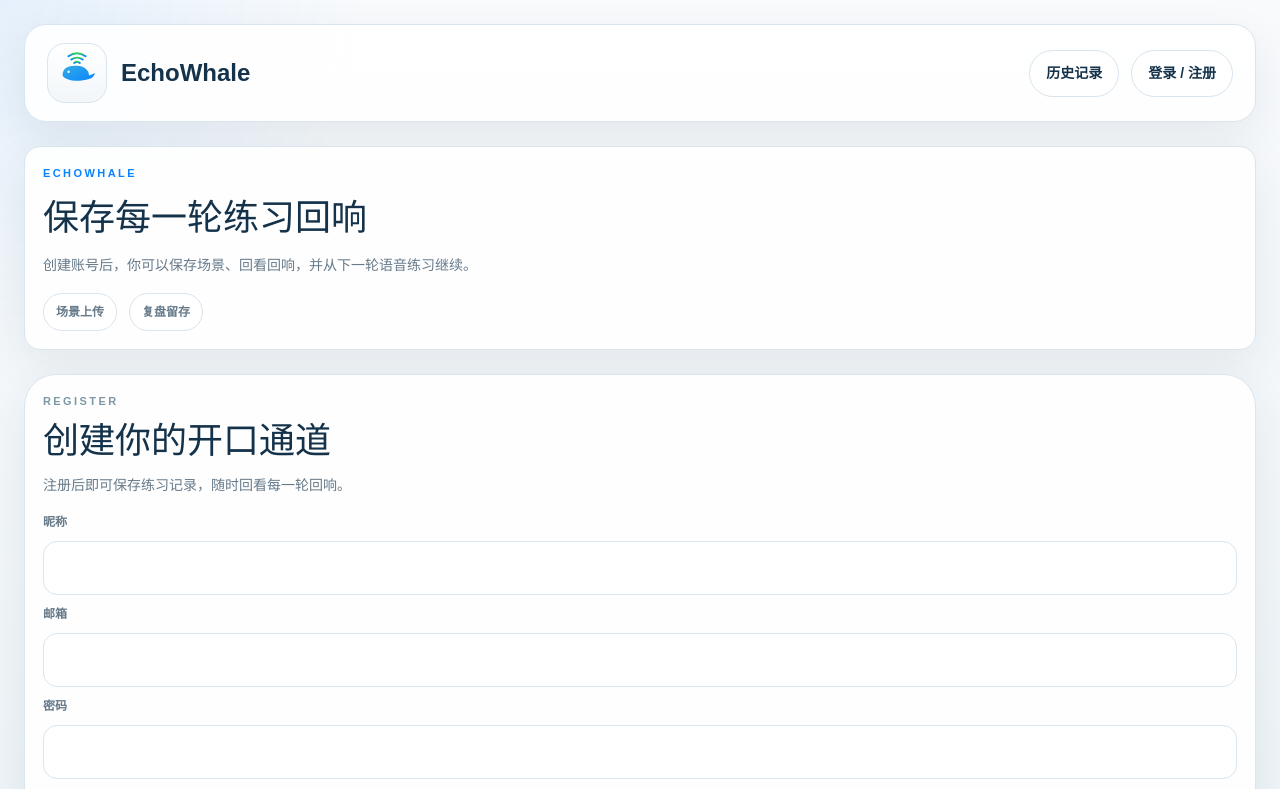
it: App › redirects successful registration to the verify-email instructions page
Expected: the field labelled "邮箱" is empty, [43,633,1237,687]
Expected: the password field labelled "密码" is empty, [43,725,1237,779]
In the field labelled "昵称": (640, 568) [43,541,1237,595], type "Echo Learner"
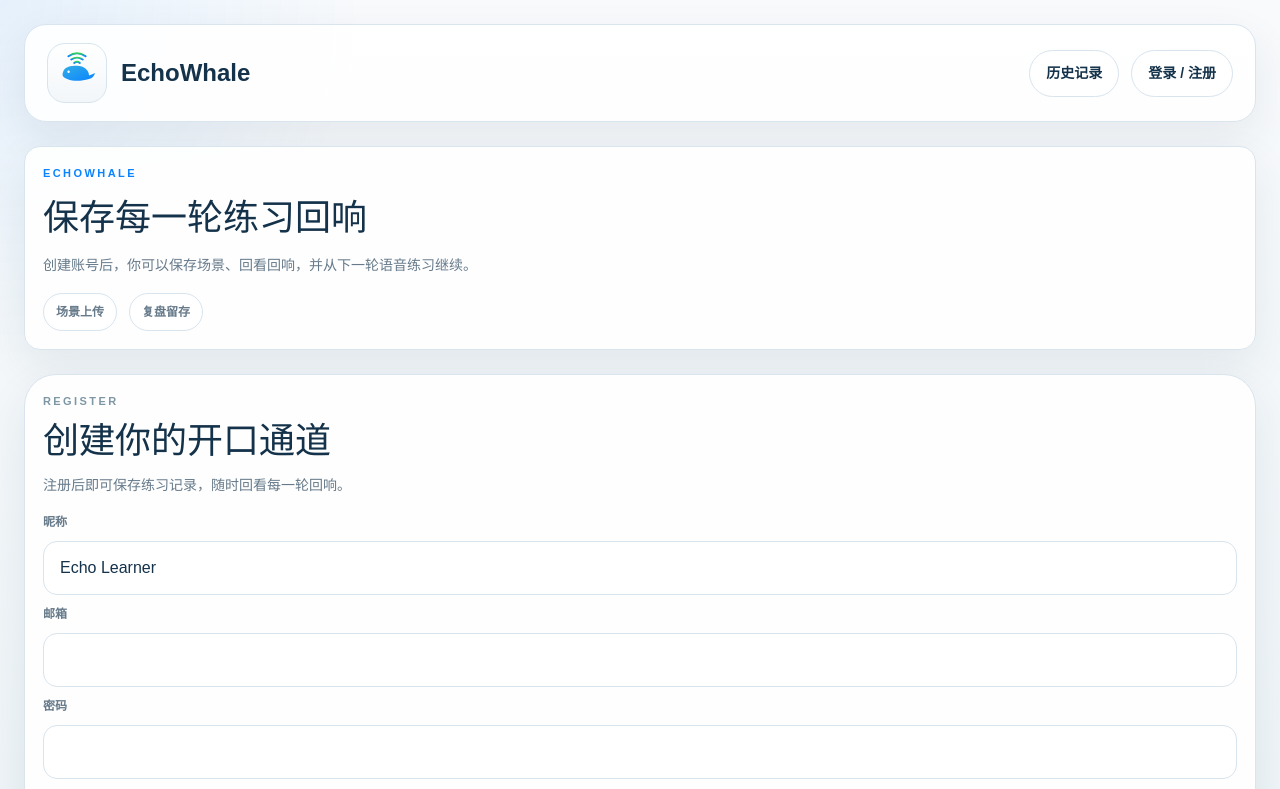
In the field labelled "邮箱": (640, 660) [43,633,1237,687], type "learner@example.com"
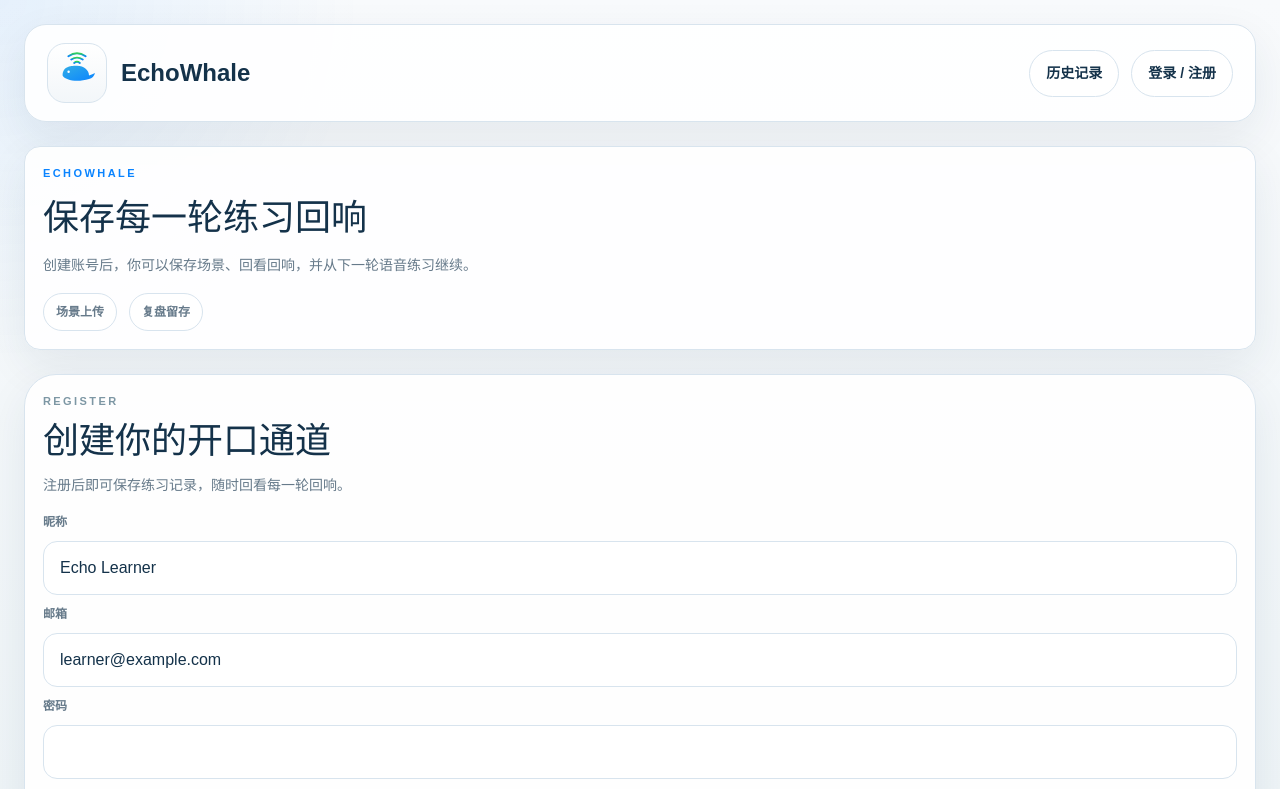
In the password field labelled "密码": (640, 752) [43,725,1237,779], type "secret123"
(page scrolled)
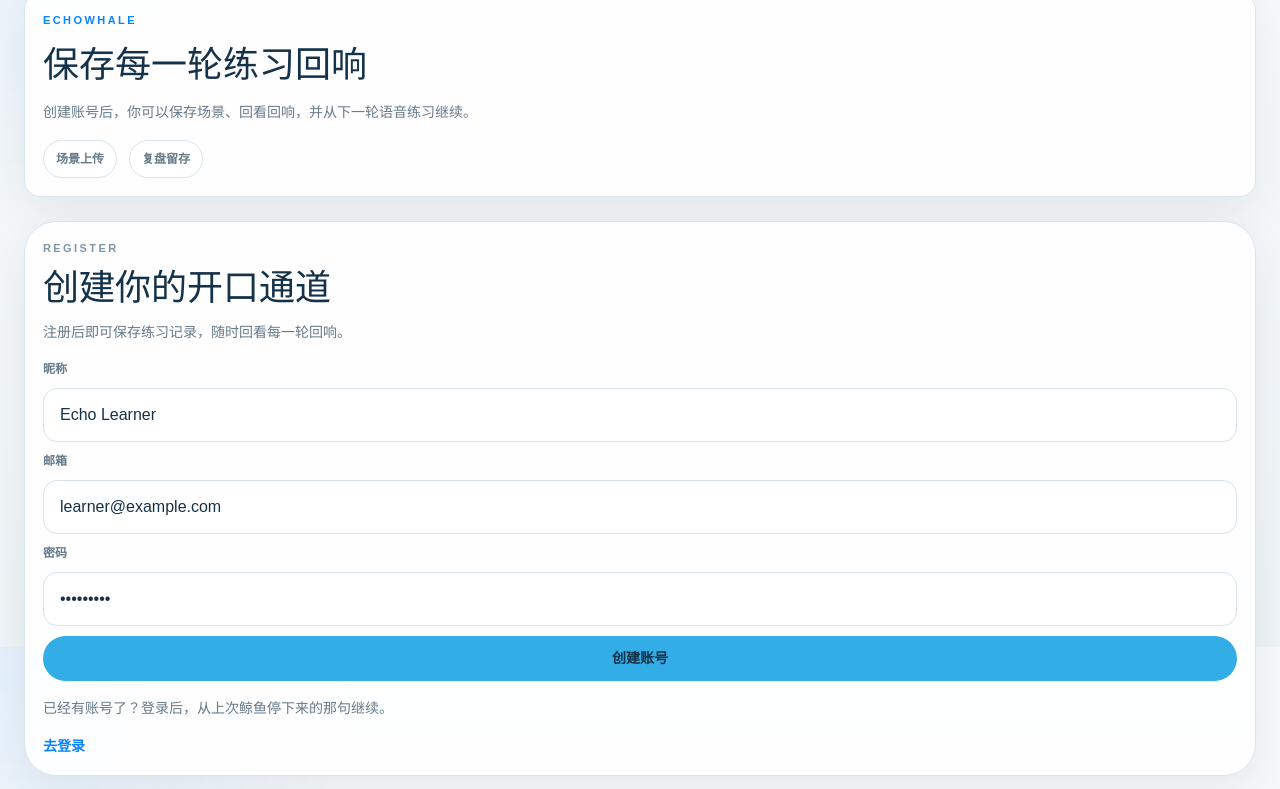
Click the button "创建账号": (640, 658) [43,636,1237,681]
(page scrolled)
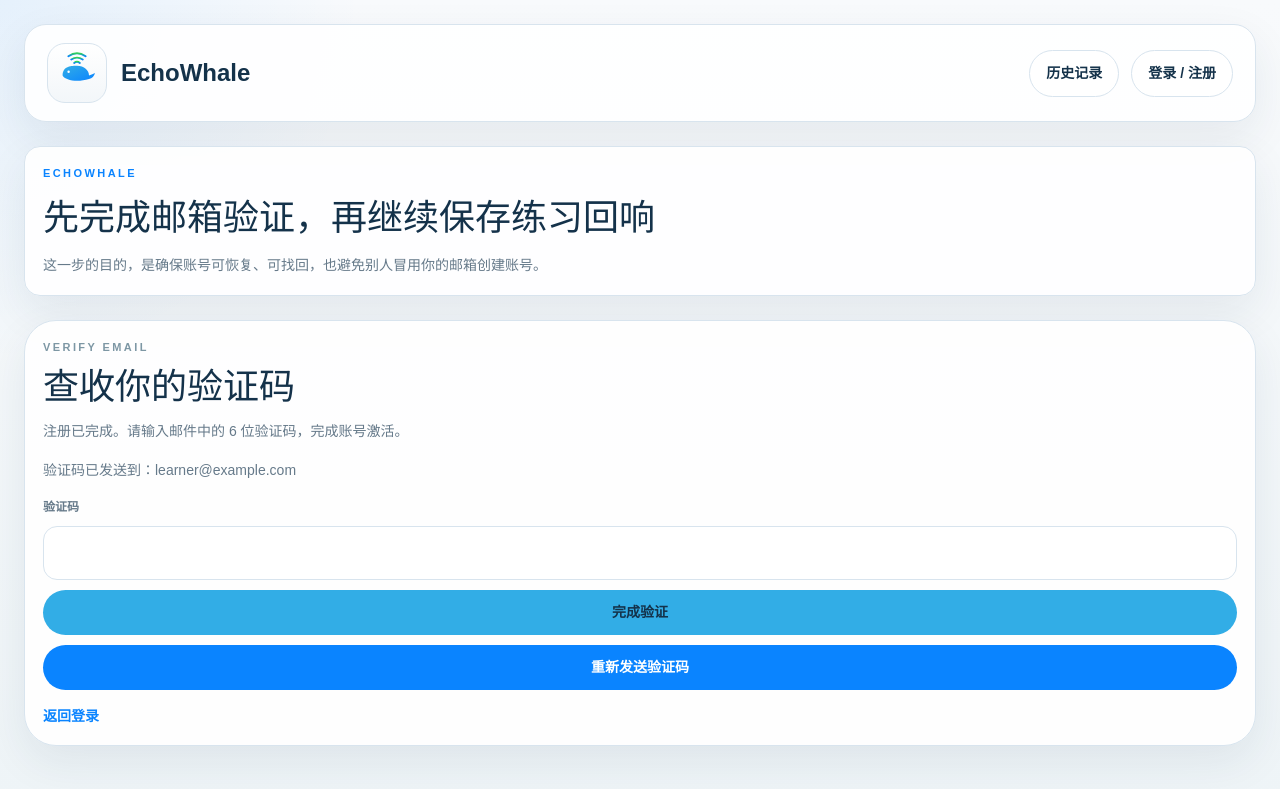
Expected: the heading "查收你的验证码" is shown, [43,367,295,408]
Expected: the text "验证码已发送到：learner@example.com" is shown, [43,462,296,478]
Expected: the heading "创建你的开口通道" is gone
